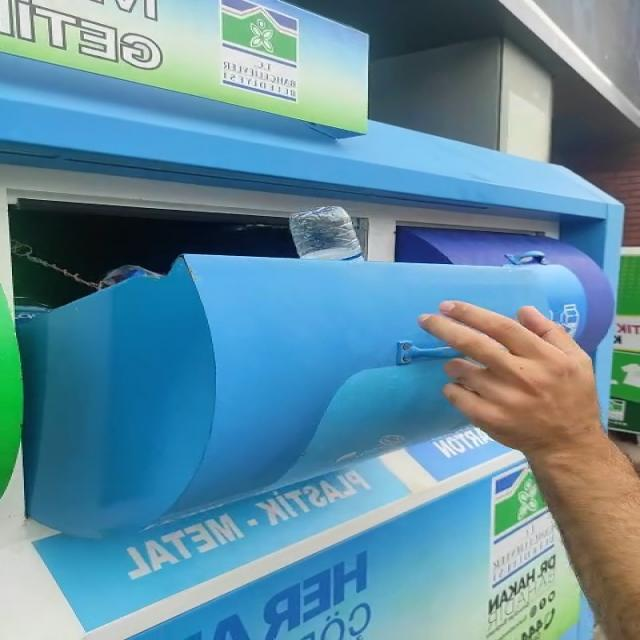plastic: (289, 206, 364, 260)
